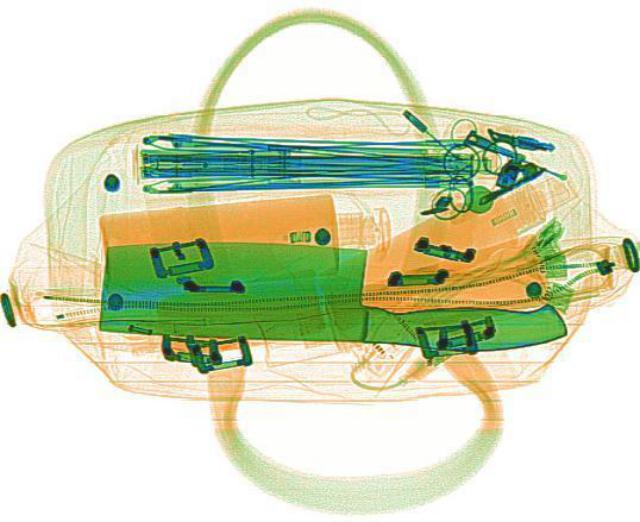Knife: (96, 232, 570, 354)
